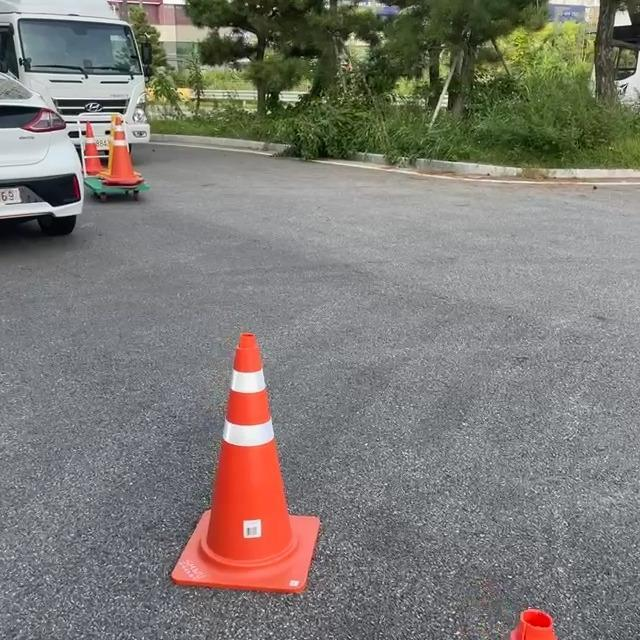fallen_object: (169, 302, 309, 632), (462, 570, 585, 640), (70, 102, 149, 187)
